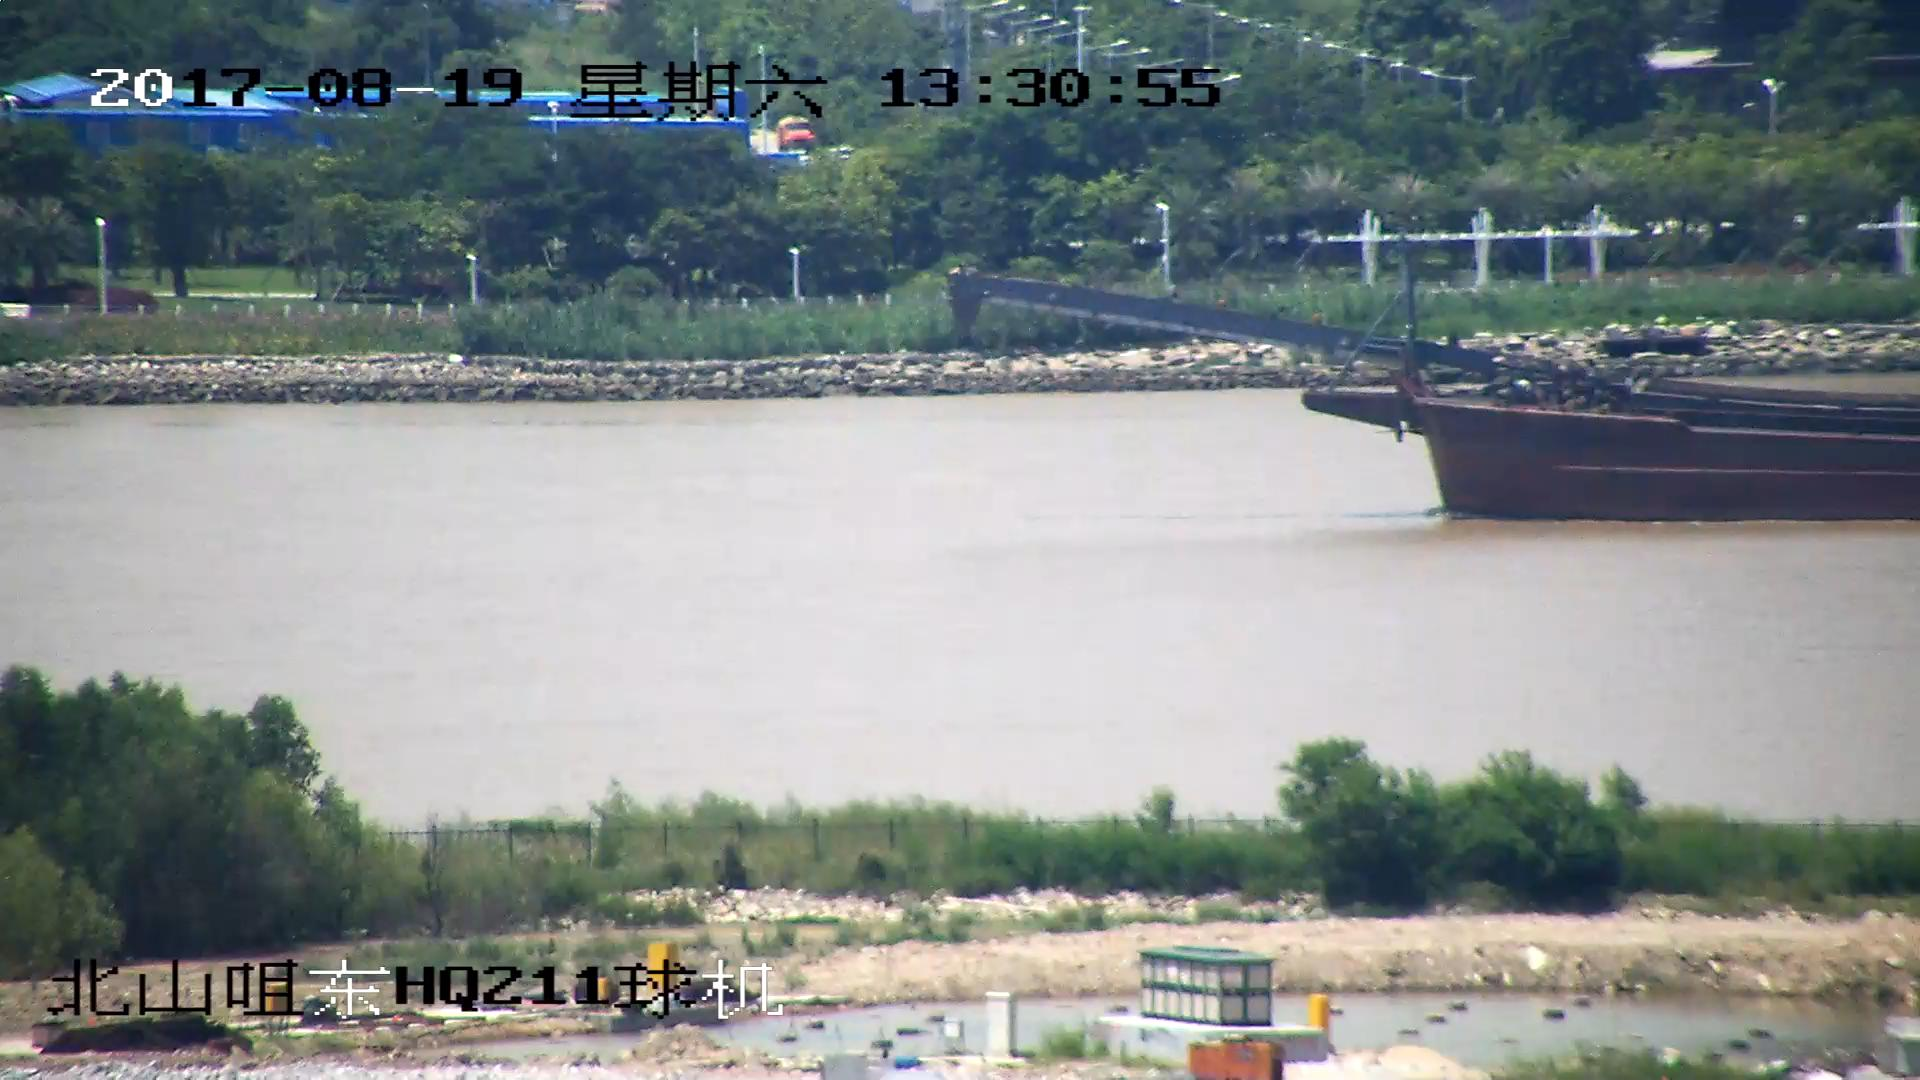bulk cargo carrier: (958, 250, 1920, 519)
